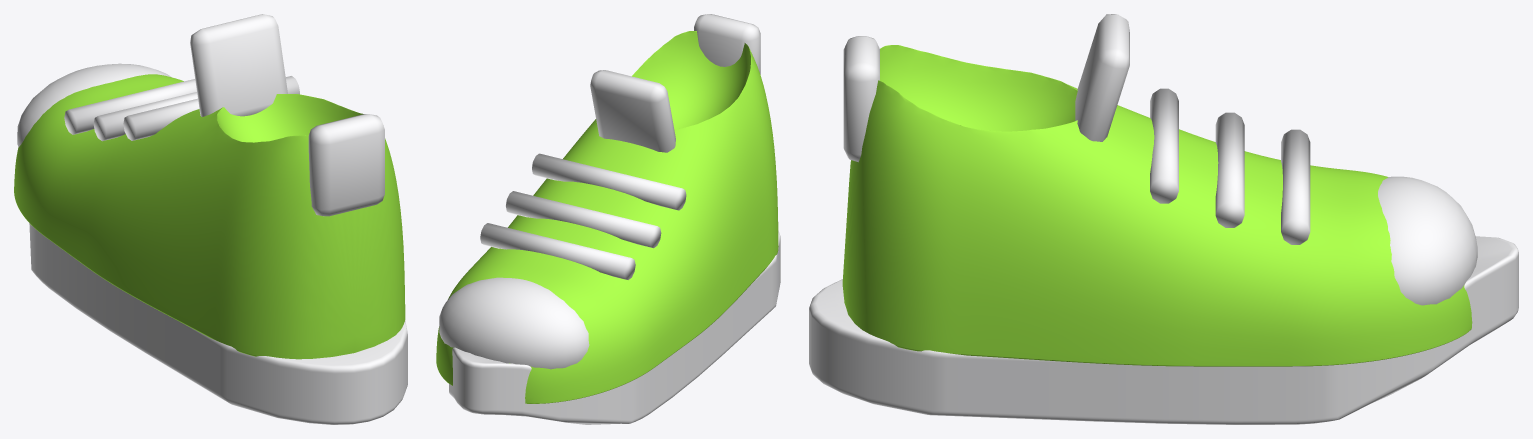
File: shoe_oldsneakers.fbx
3 renders of one model, left to right at view 1: azimuth 30°, elevation 25°; view 2: azimuth 150°, elevation 25°; view 3: azimuth 270°, elevation 25°, orthographic. The views are drawn at different scales.
Parts seen in each view (by area): view 1: Upper, Trim, Sole; view 2: Upper, Trim, Sole; view 3: Upper, Sole, Trim.
Boxes of the visible parts, <box> form: Upper: <box>14,74,405,359</box>; Trim: <box>17,14,384,216</box>; Sole: <box>29,223,407,424</box>; Upper: <box>436,31,778,403</box>; Trim: <box>439,14,760,369</box>; Sole: <box>449,231,780,424</box>; Upper: <box>842,45,1472,366</box>; Sole: <box>809,236,1518,424</box>; Trim: <box>843,14,1477,305</box>.
Bounding box in the file's own units: 1.56 × 2.04 × 3.89.
